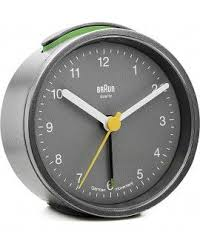alarm_clock: (0, 16, 199, 217), (10, 16, 199, 217)
